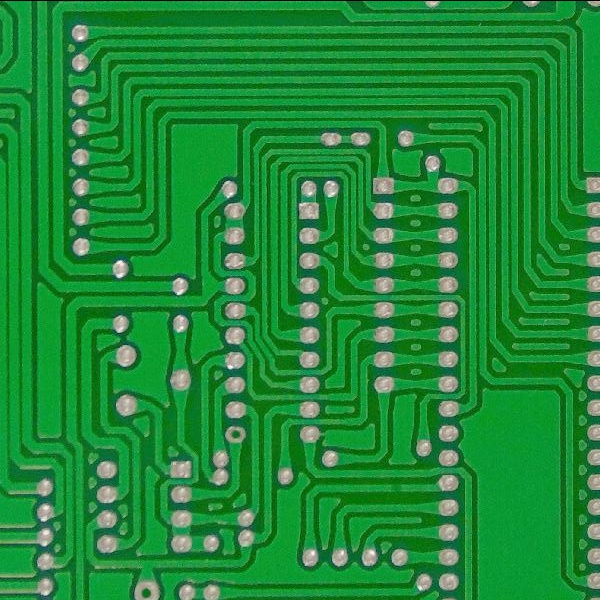missing_hole: (221, 421, 250, 447), (132, 575, 162, 599)
